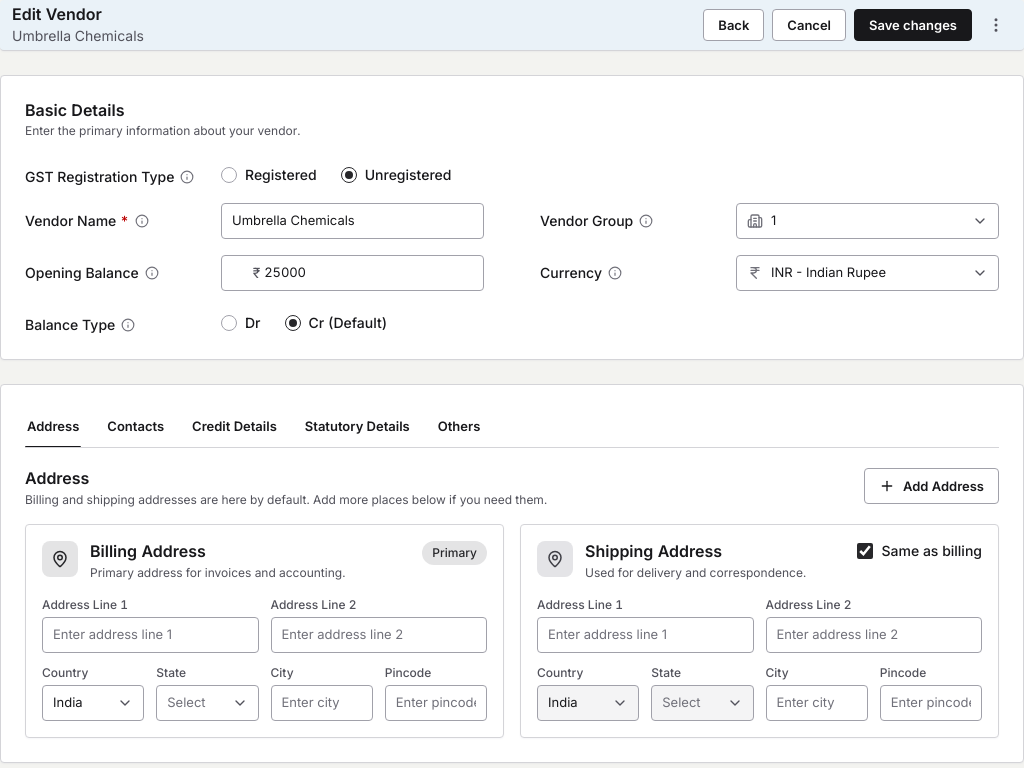
Test case: the money fields › shows what an existing vendor already carries
This screenshot has width=1024, height=768.
Expected: the number field labelled "Opening Balance" holds "25000", top-left (264, 264), bottom-right (452, 283)
Expected: the radio button labelled "Cr (Default)" is checked, top-left (284, 315), bottom-right (300, 331)
Click the tab "Credit Details" at (234, 428), box top-left (190, 409), bottom-right (279, 447)
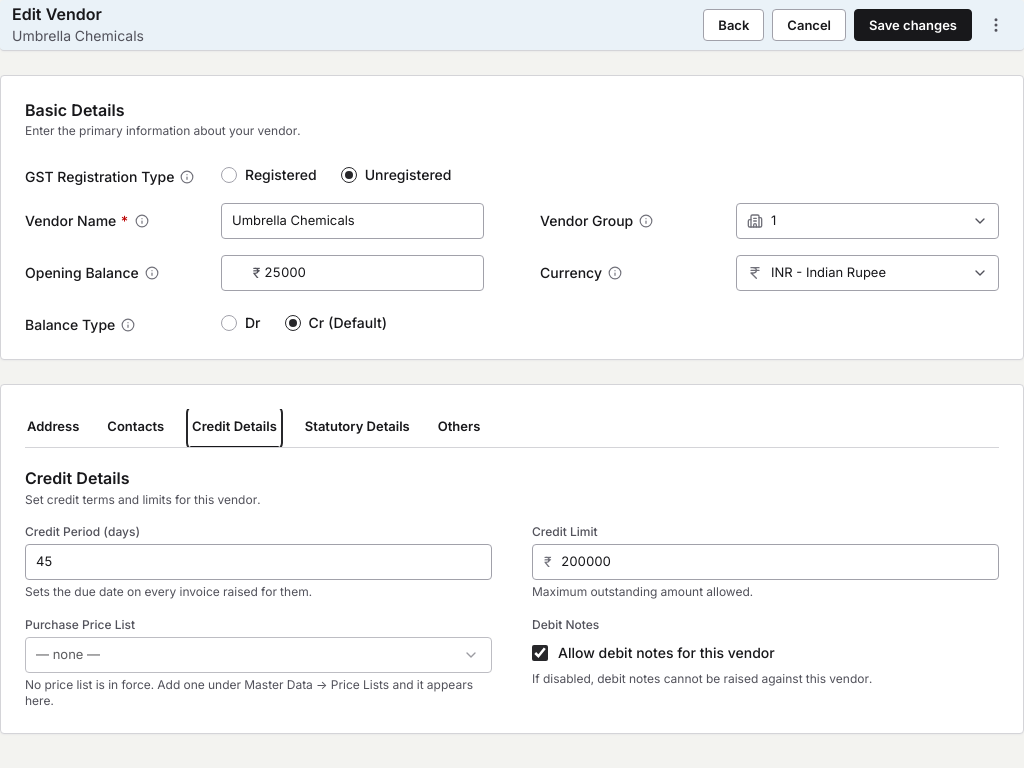
Result: the number field labelled "Credit Limit" holds "200000" at top-left (532, 544), bottom-right (999, 580)
Result: the number field labelled "Credit Period (days)" holds "45" at top-left (25, 544), bottom-right (492, 580)
